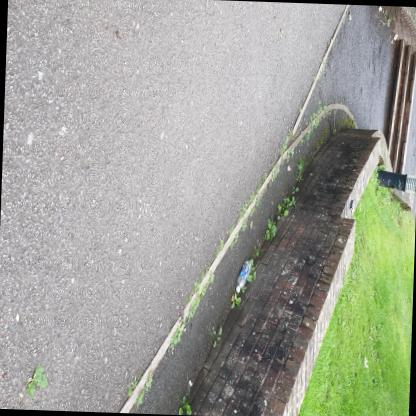Paper: (349, 200, 354, 213)
Plastic: (235, 259, 251, 293), (235, 286, 239, 293)
